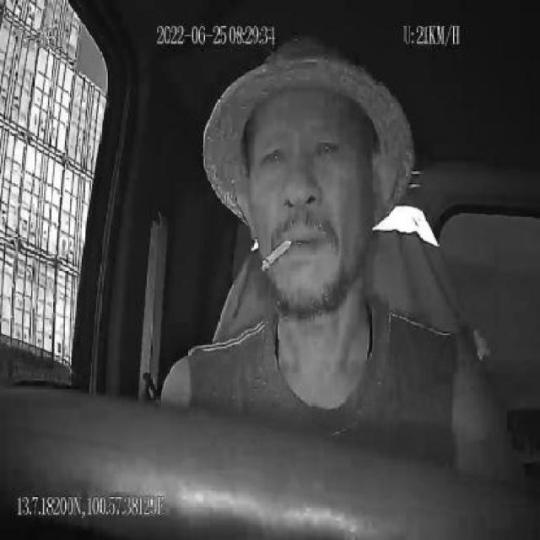smoking: (260, 235, 293, 274)
